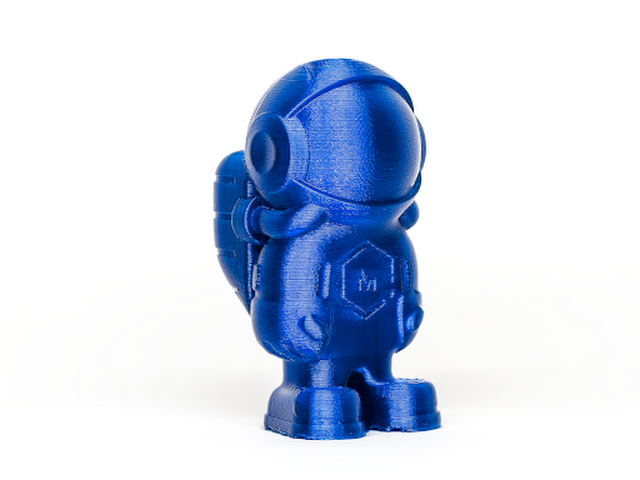Good: (199, 51, 476, 455)
